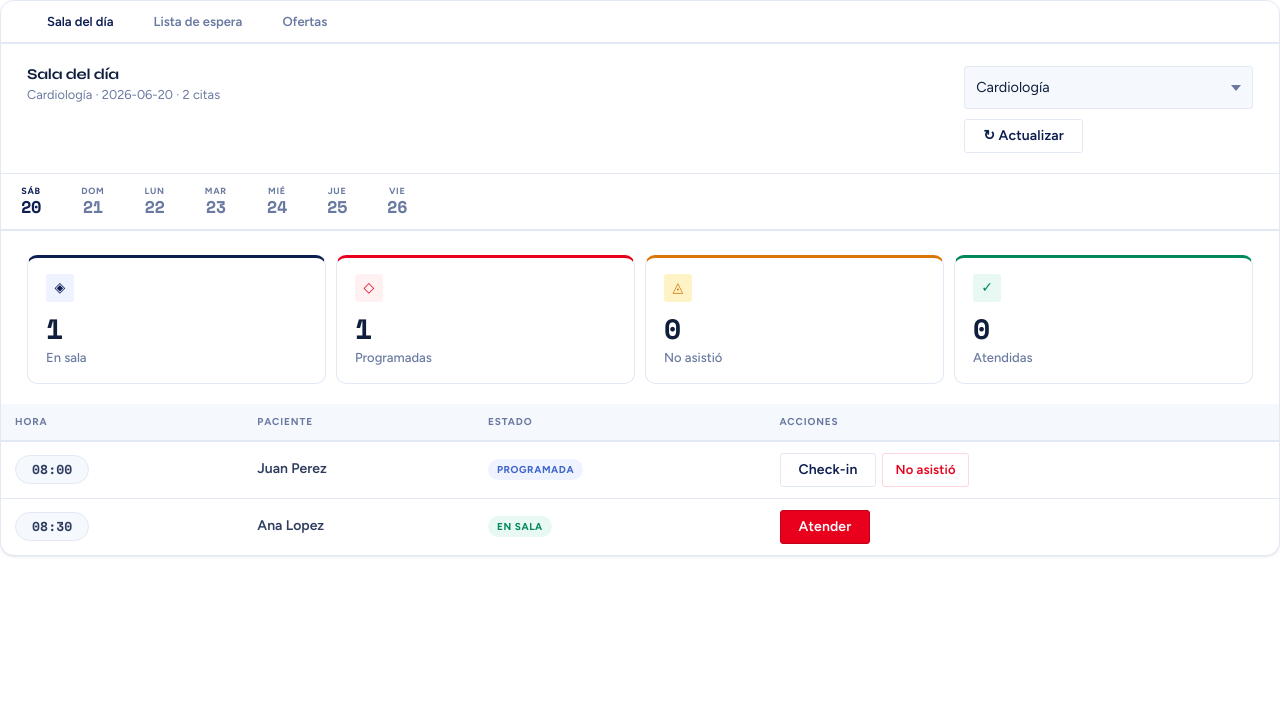
Test case: AdminPage › abre el wizard de agendamiento desde la lista de espera y agenda una cita
The width and height of the screenshot is (1280, 720).
Expected: the text "Juan Perez" is shown, x1=243 y1=440 x2=474 y2=498
What coordinates should you click on to do the following:
click the button "Lista de espera"
I would click on:
 (198, 22)
Its box is x1=134 y1=1 x2=262 y2=42.
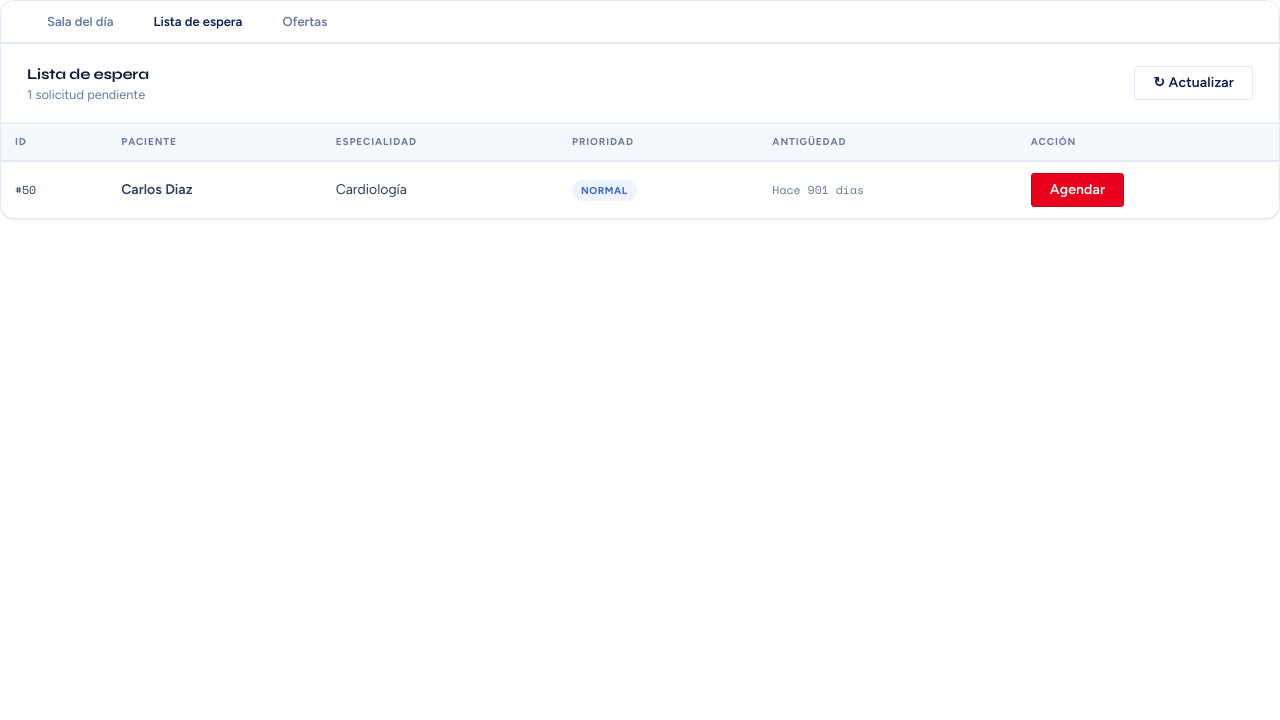
Now the text "Carlos Diaz" is shown, box x1=107 y1=161 x2=322 y2=218
What coordinates should you click on to do the following:
click the button "Agendar"
I would click on:
 (1077, 190)
Its box is x1=1031 y1=173 x2=1124 y2=207.
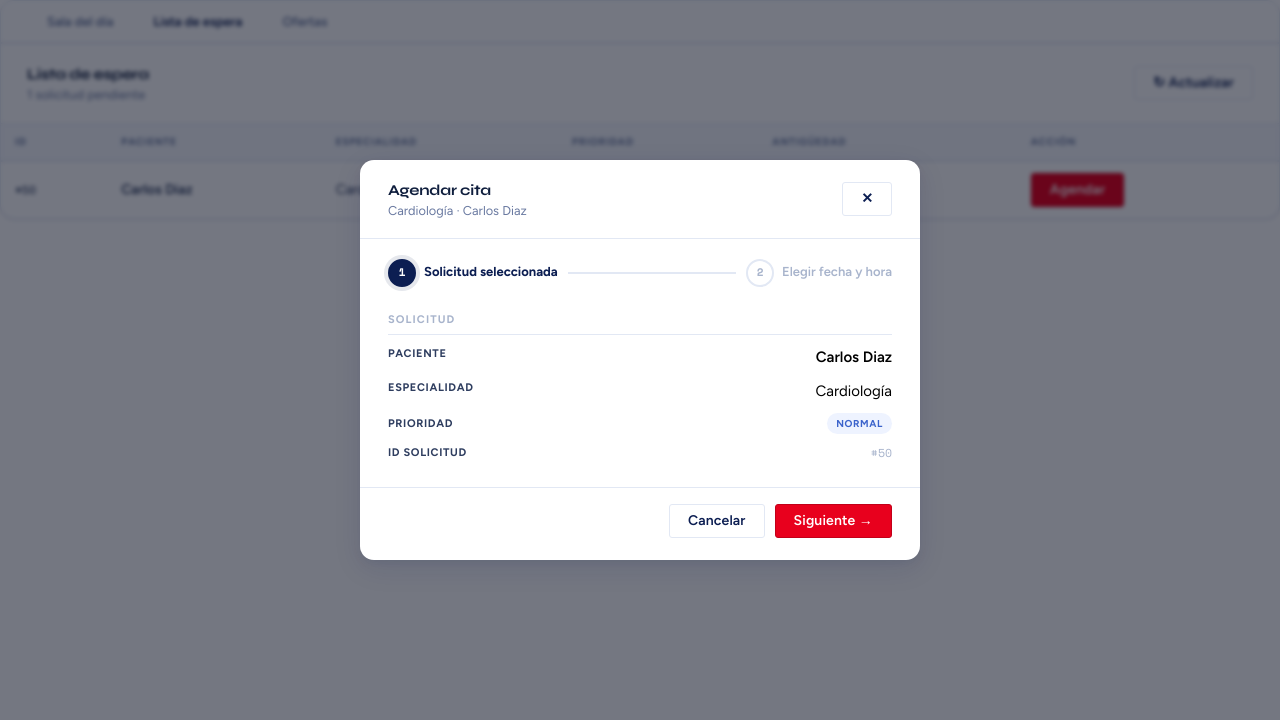
Now the text "Carlos Diaz" is shown, box x1=107 y1=161 x2=322 y2=218
Now the heading "Agendar cita" is shown, box x1=388 y1=181 x2=491 y2=199
What coordinates should you click on to do the following:
click the button "Siguiente →"
I would click on:
 (833, 521)
Its box is x1=775 y1=504 x2=892 y2=538.
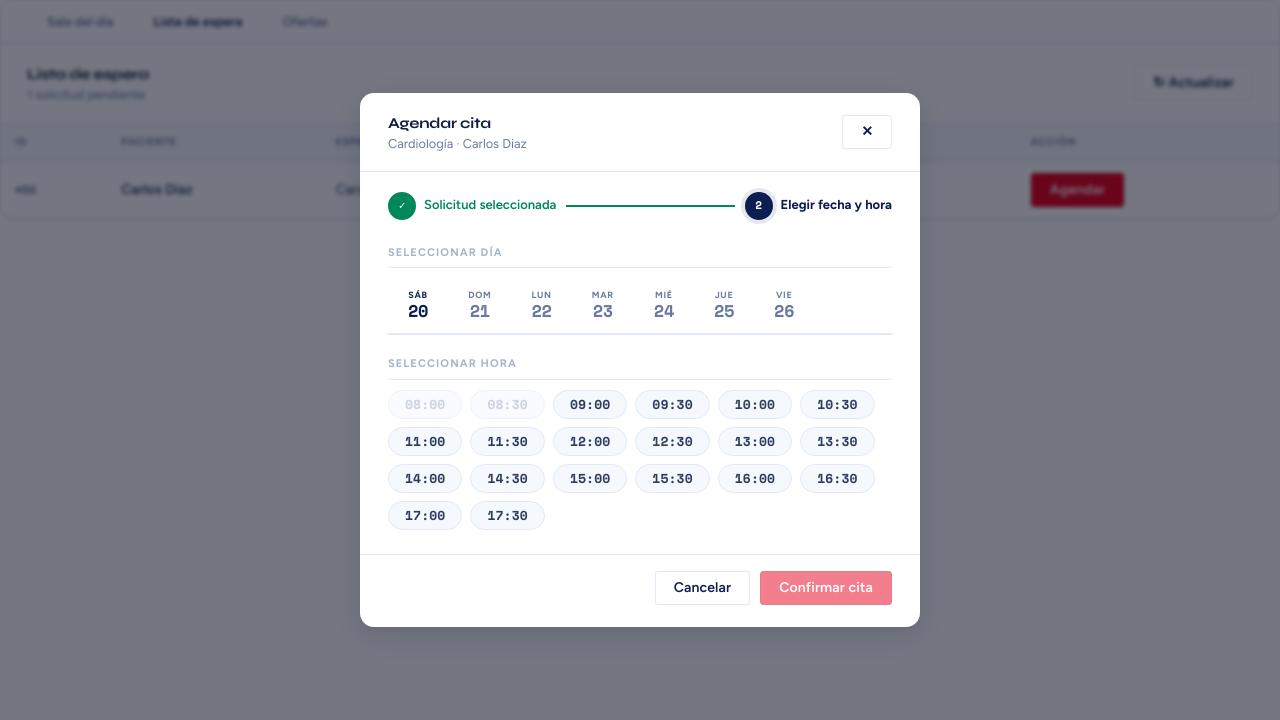
What coordinates should you click on to do the following:
click the button "09:30"
I would click on:
 (672, 404)
Its box is x1=635 y1=390 x2=710 y2=419.
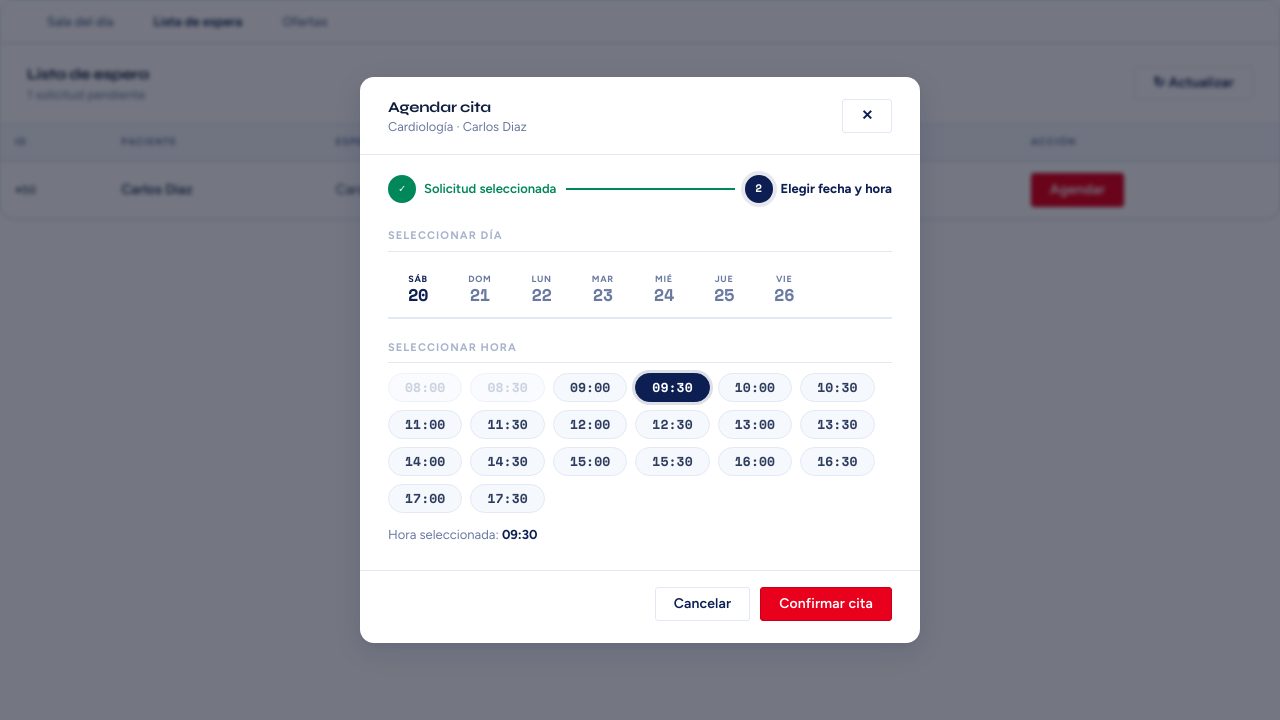
Now the button "Confirmar cita" is enabled
What coordinates should you click on to do the following:
click the button "Confirmar cita"
I would click on:
 (826, 604)
Its box is x1=760 y1=587 x2=892 y2=621.
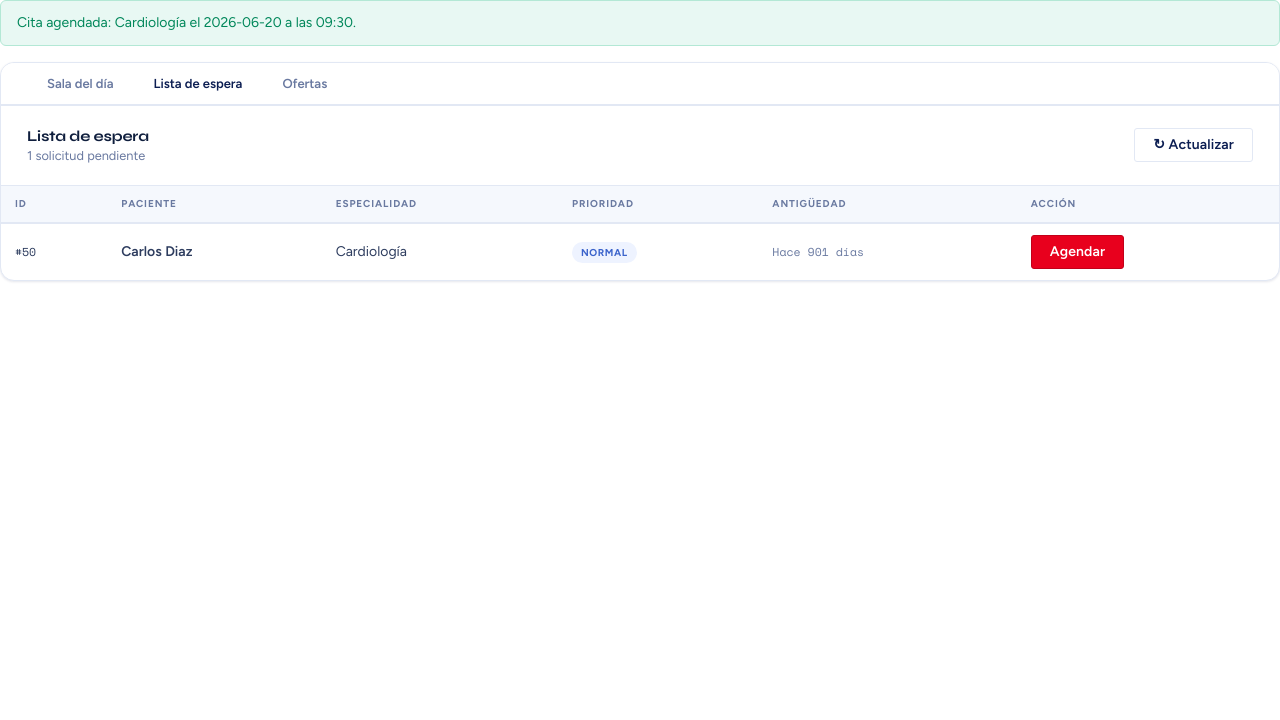
Now the text "Cita agendada: Cardiología el 2026-06-20 a las 09:30." is shown, box x1=0 y1=0 x2=1279 y2=46
